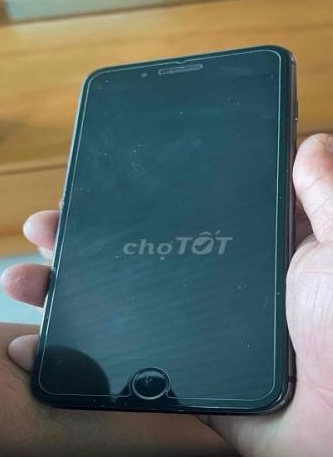scratch: (88, 73, 113, 114), (133, 364, 166, 394)
